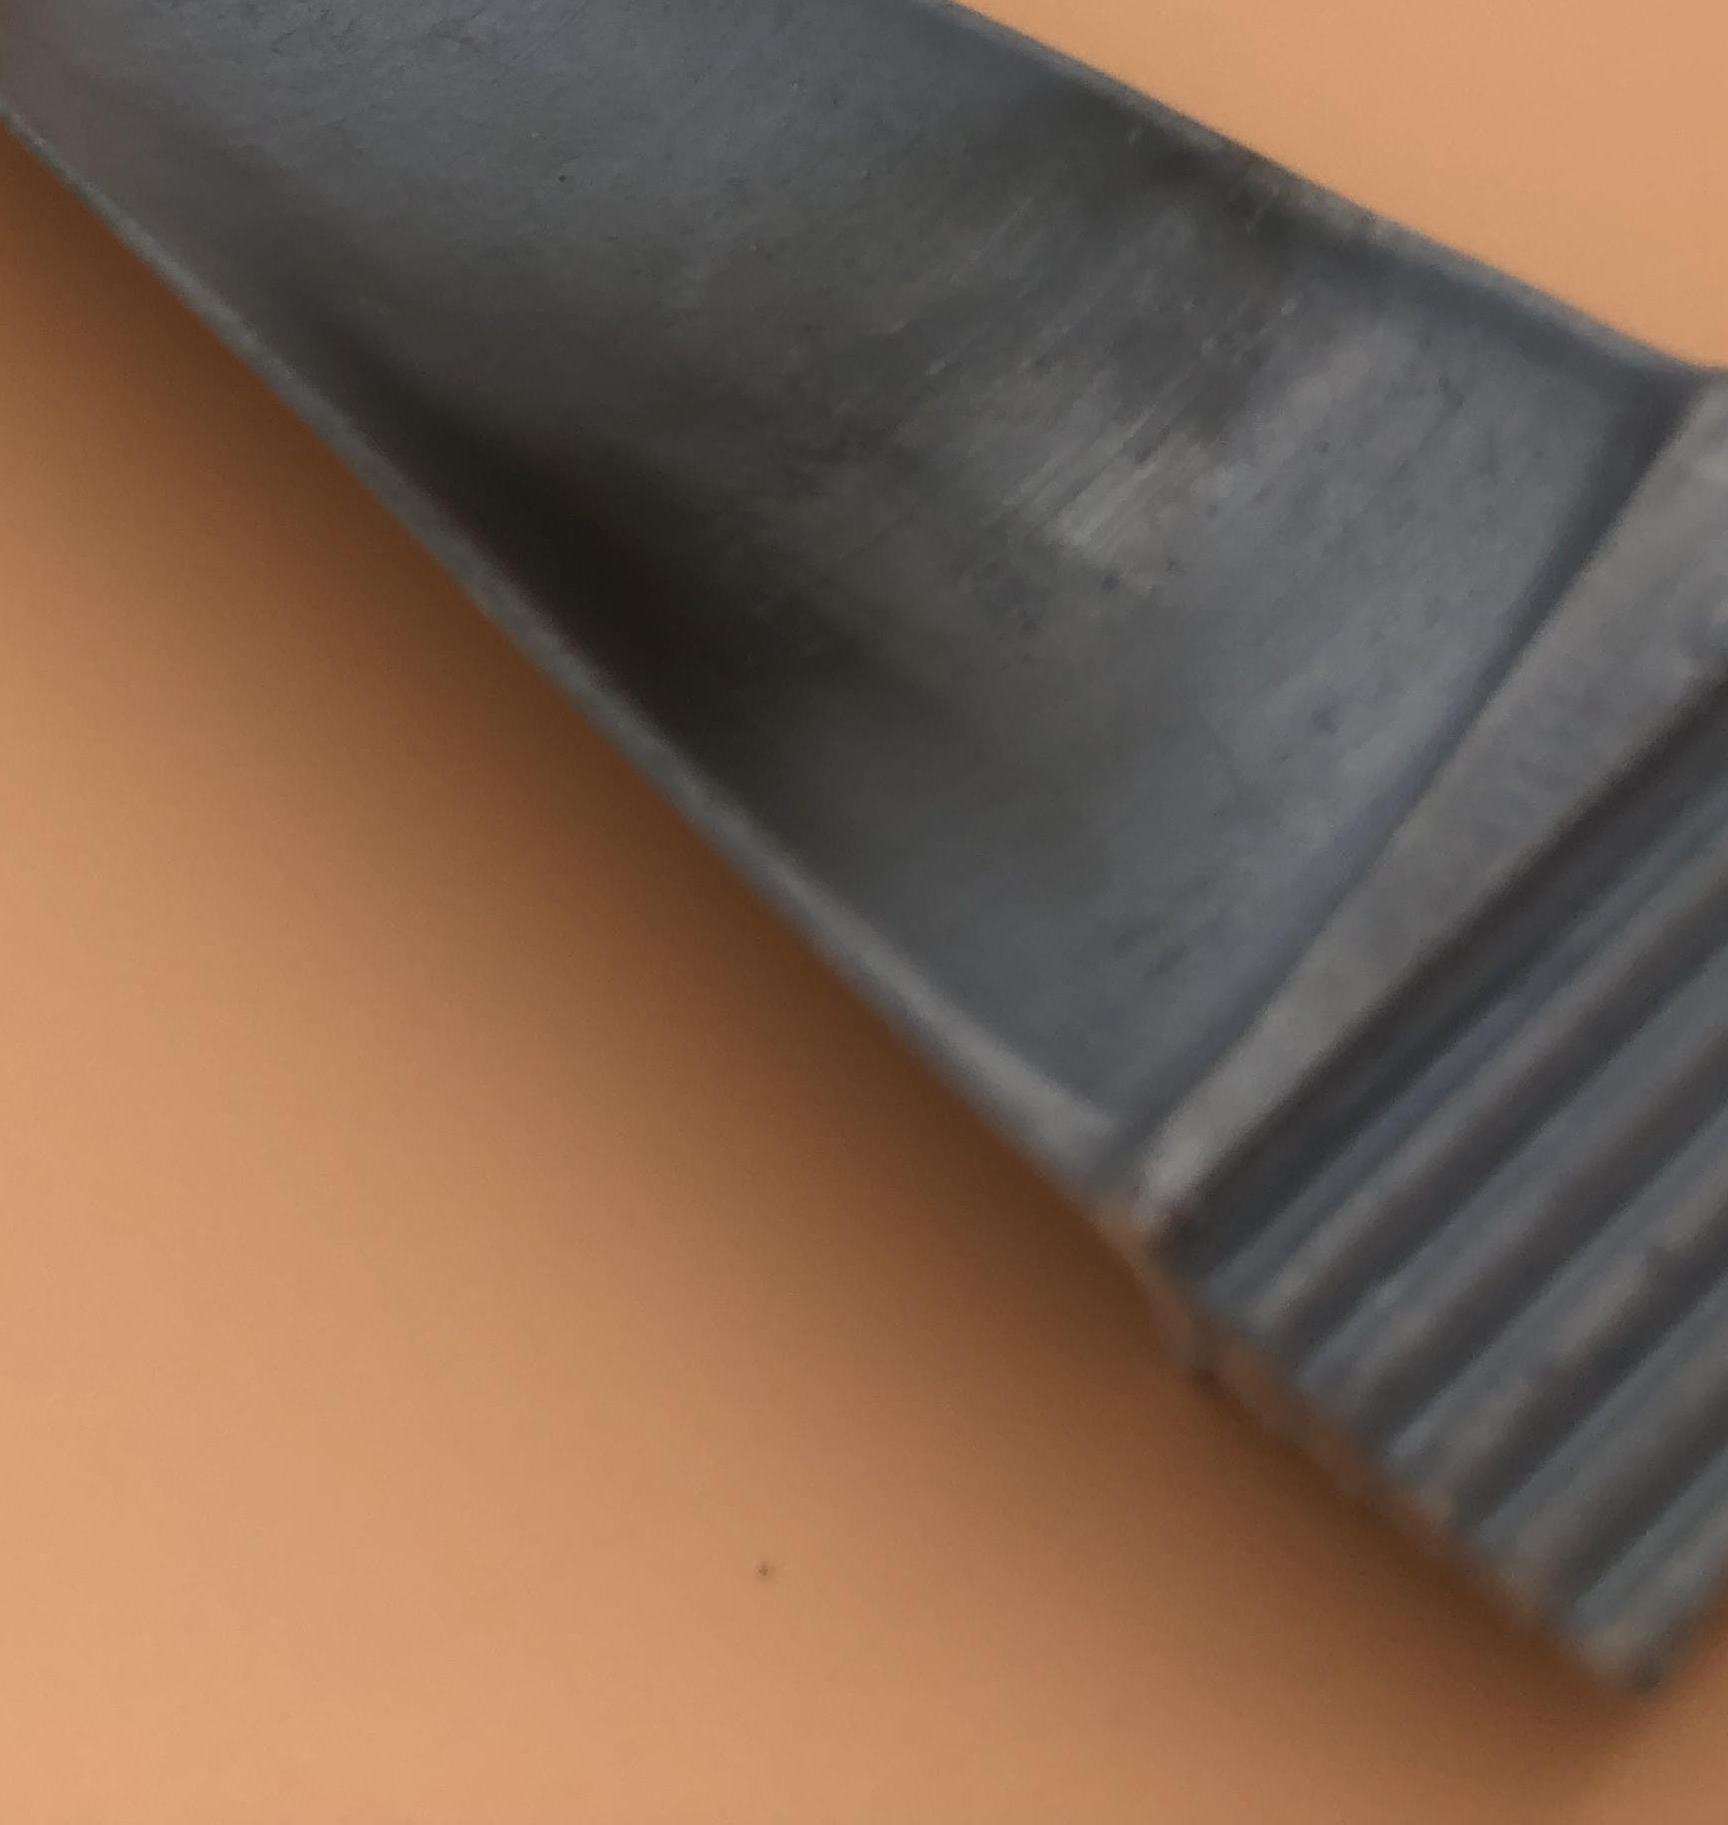ablation: (474, 304, 913, 701)
